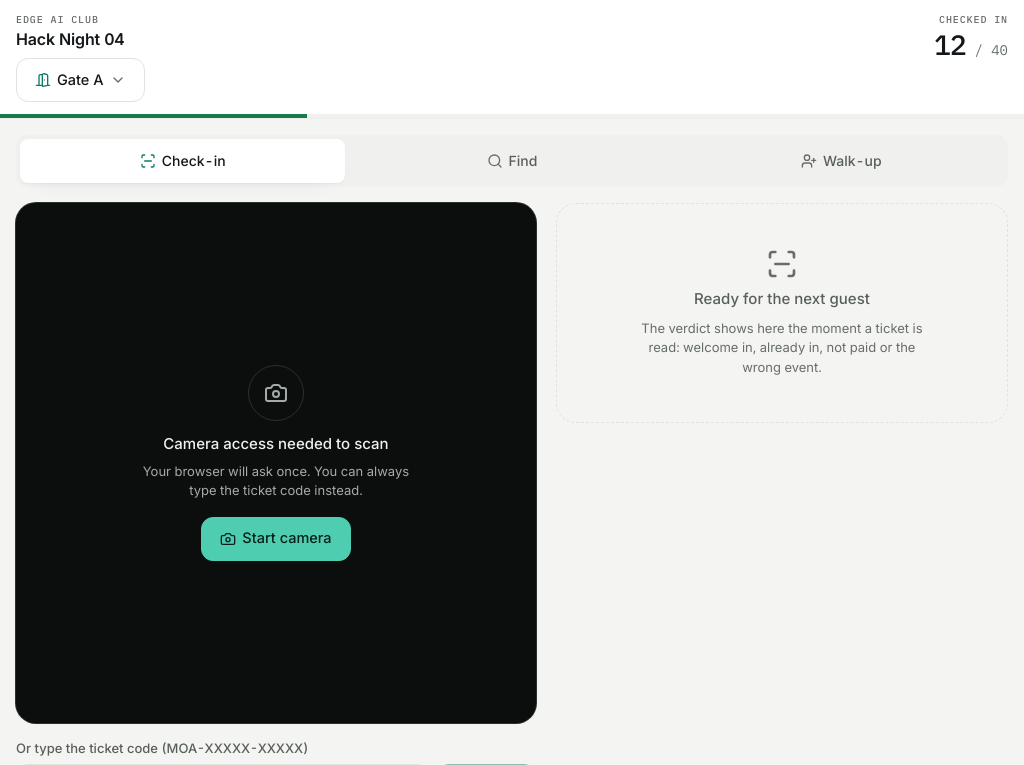
Test: the gate console › finds a guest by name and checks them in by hand, and will not admit an unpaid one
Click the tab "Find" at (512, 161), box 349,139 -> 675,183
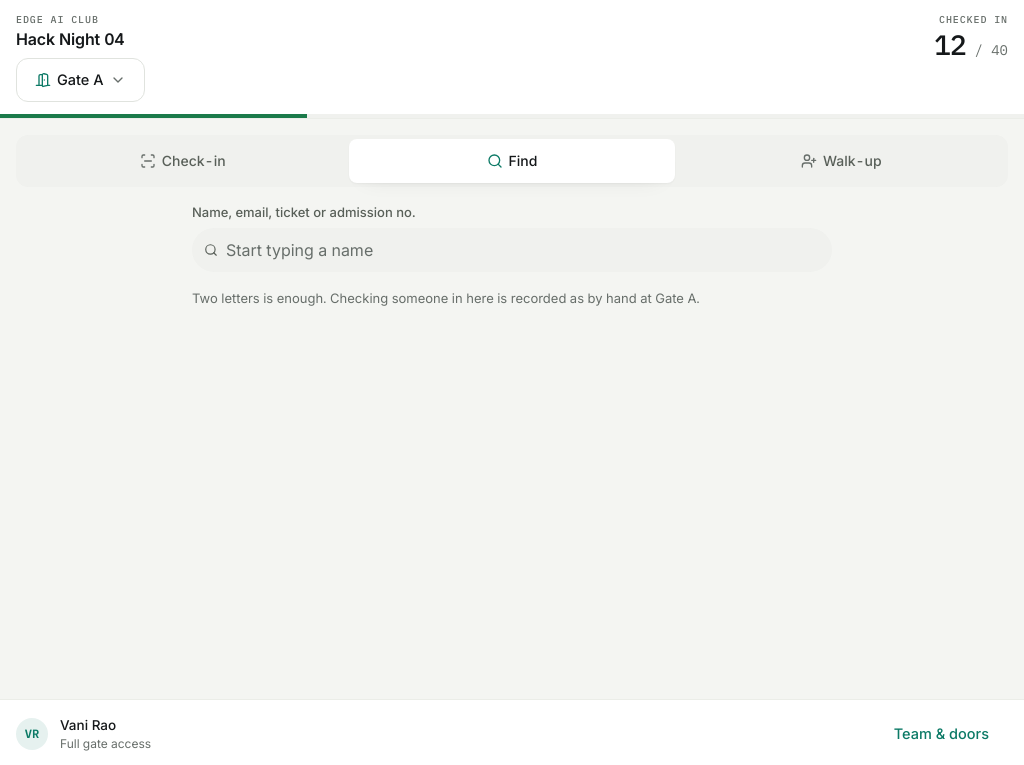
Type "Ananya" into the field labelled "Name, email, ticket or admission no." at (523, 250), box 226,238 -> 820,262
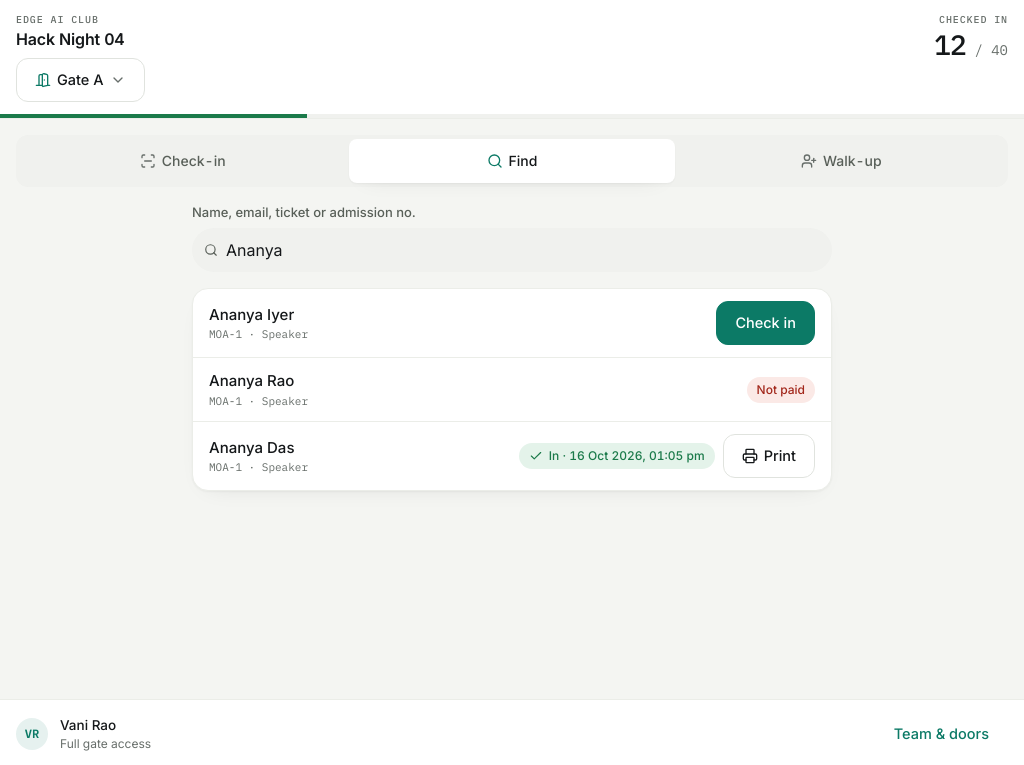
Result: the number of list items is 3 at 193,289 -> 831,358; 193,358 -> 831,422; 193,422 -> 831,490
Result: the text "Not paid" is shown at 747,377 -> 815,403
Result: the text "In · 16 Oct 2026, 01:05 pm" is shown at 519,443 -> 715,469
Click the button "Check in" at (766, 323), box 716,301 -> 815,345
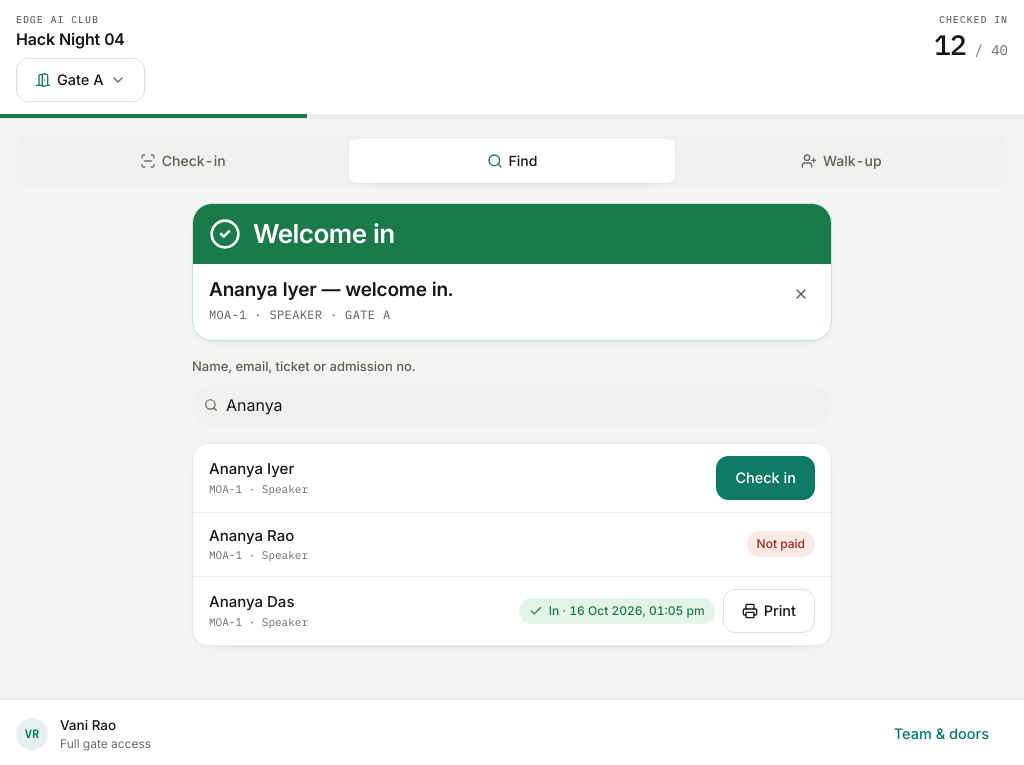
Result: the text "Welcome in" is shown at 253,218 -> 395,248
